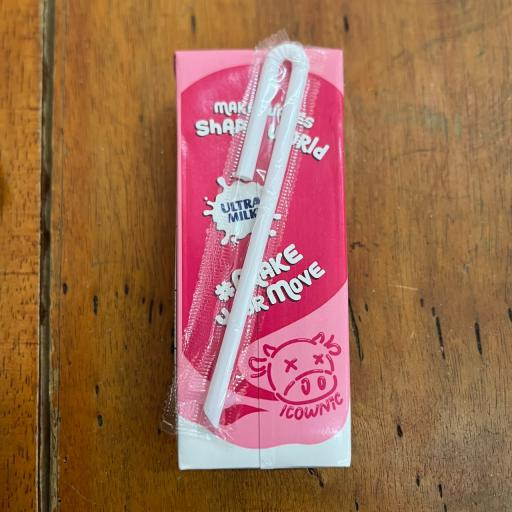Ultramilk Strawberry 200ml: (167, 46, 358, 467)
